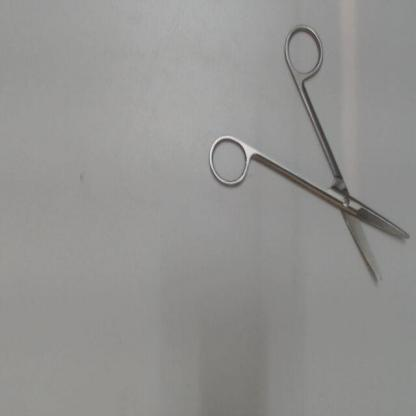Curved Mayo Scissors: (202, 15, 414, 292)
